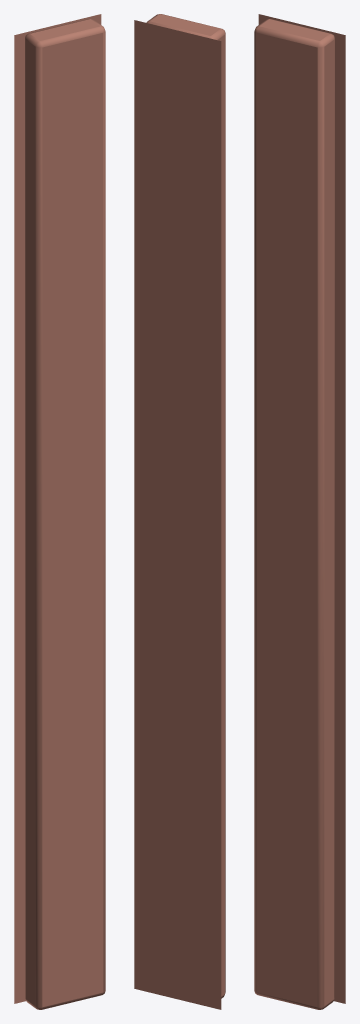
The model's file is filler_pilaster_u_03.glb.
3 views of the same model, side by side, from view 1: azimuth 30°, elevation 25°; view 2: azimuth 150°, elevation 25°; view 3: azimuth 330°, elevation 25° (orthographic).
Visible parts, largest first — view 1: filler_pilaster_u_03; view 2: filler_pilaster_u_03; view 3: filler_pilaster_u_03.
Boxes of the visible parts, x1,y1,x2,y2 form: filler_pilaster_u_03: (14, 14, 105, 1009); filler_pilaster_u_03: (134, 14, 225, 1009); filler_pilaster_u_03: (254, 14, 345, 1009).
Bounding box in the file's own units: 0.3 × 3.2 × 0.09.
